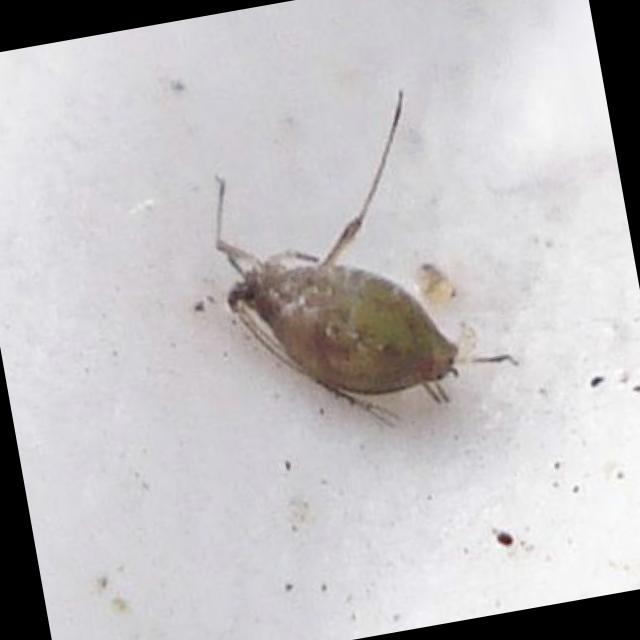Aphids: (200, 150, 494, 432)
